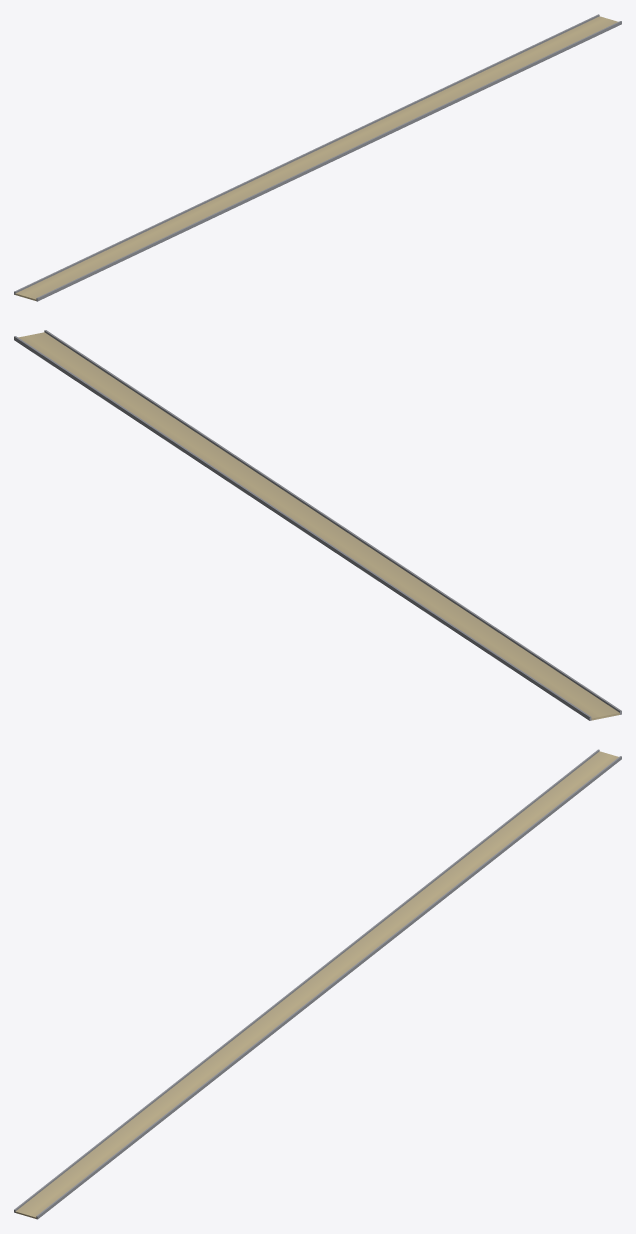
Rendered from sidewalk_17.fbx.
3 renders of one model, top to bottom at view 1: azimuth 90°, elevation 25°; view 2: azimuth 150°, elevation 25°; view 3: azimuth 270°, elevation 25°, orthographic. The views are drawn at different scales.
Parts seen in each view (by area): view 1: sidewalk_16; view 2: sidewalk_16; view 3: sidewalk_16.
Part boxes in pixels (bbox=[...]): sidewalk_16: bbox=[14, 14, 621, 301]; sidewalk_16: bbox=[14, 330, 621, 720]; sidewalk_16: bbox=[14, 749, 621, 1219].
Bounding box in the file's own units: 7.31 × 0.8572 × 5.
1 material, 1 textured.
